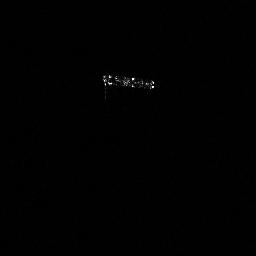ship: (98, 70, 159, 94)
